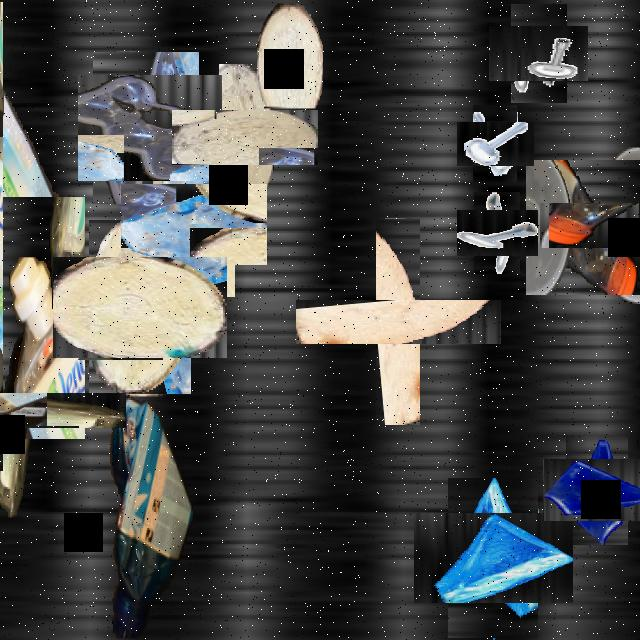glass: (430, 496, 556, 620), (137, 167, 251, 281), (554, 448, 640, 534)
metal: (500, 15, 578, 92), (465, 201, 529, 265), (464, 114, 526, 174)
plastic: (0, 71, 78, 377), (104, 393, 192, 638), (0, 236, 124, 399), (81, 63, 210, 193), (526, 160, 640, 295), (0, 347, 81, 473), (567, 175, 640, 276), (0, 2, 3, 471)
wood: (71, 238, 209, 376), (336, 260, 460, 384), (194, 86, 296, 188), (257, 4, 323, 106)
